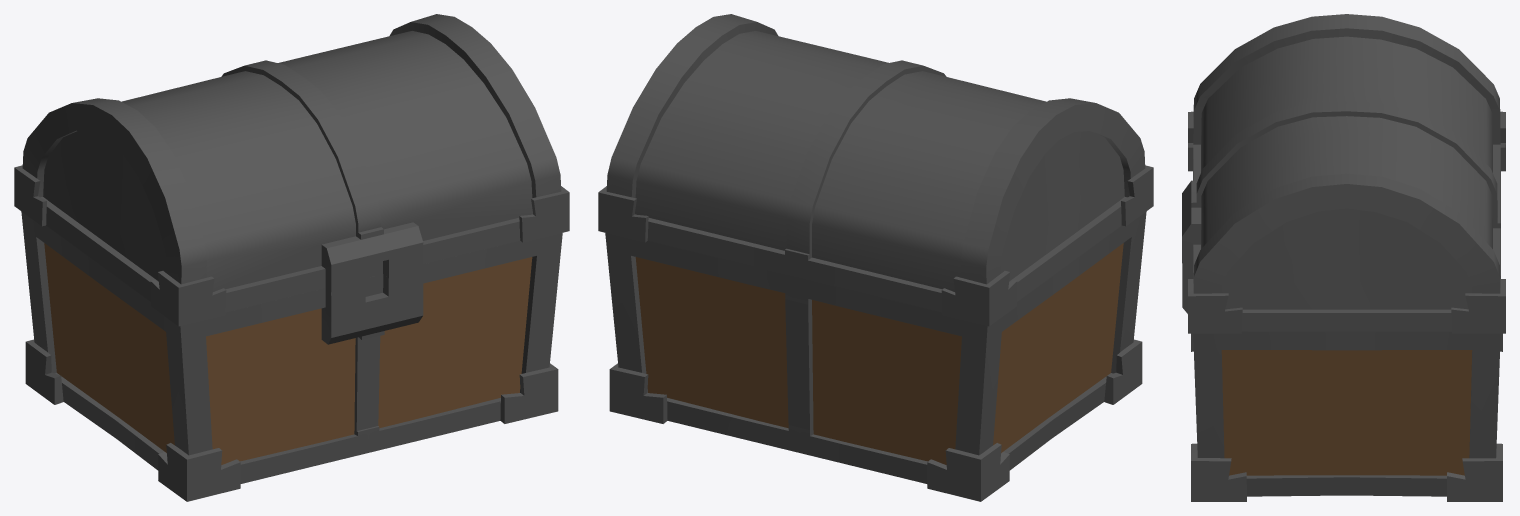
The model's file is Bau.fbx.
The picture shows the model from 3 angles, left to right: view 1: azimuth 30°, elevation 25°; view 2: azimuth 150°, elevation 25°; view 3: azimuth 270°, elevation 25°; orthographic projection. The views are drawn at different scales.
Parts seen in each view (by area): view 1: polySurface14; view 2: polySurface14; view 3: polySurface14.
Part boxes in pixels (x1=…): polySurface14: x1=14, y1=14, x2=569, y2=501; polySurface14: x1=598, y1=14, x2=1153, y2=501; polySurface14: x1=1182, y1=14, x2=1505, y2=501.
Size of the model in its own units: 4.72 by 3.76 by 3.5.
